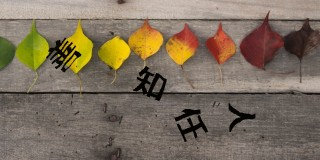人: (226, 103, 256, 132)
任: (174, 108, 209, 143)
善: (45, 37, 81, 73)
知: (131, 66, 167, 100)
